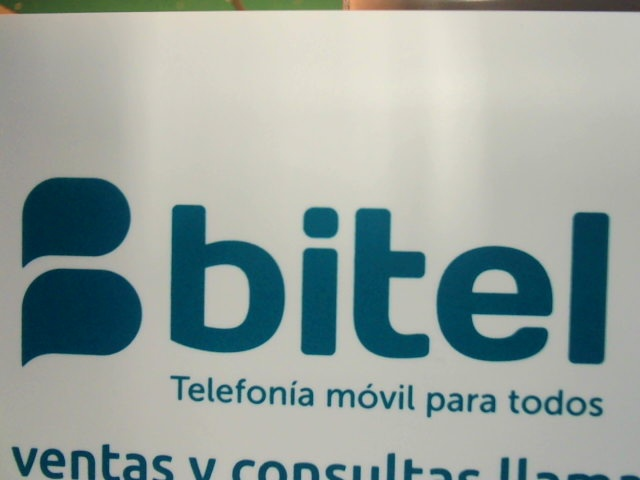BE_bitel: (11, 169, 613, 378)
